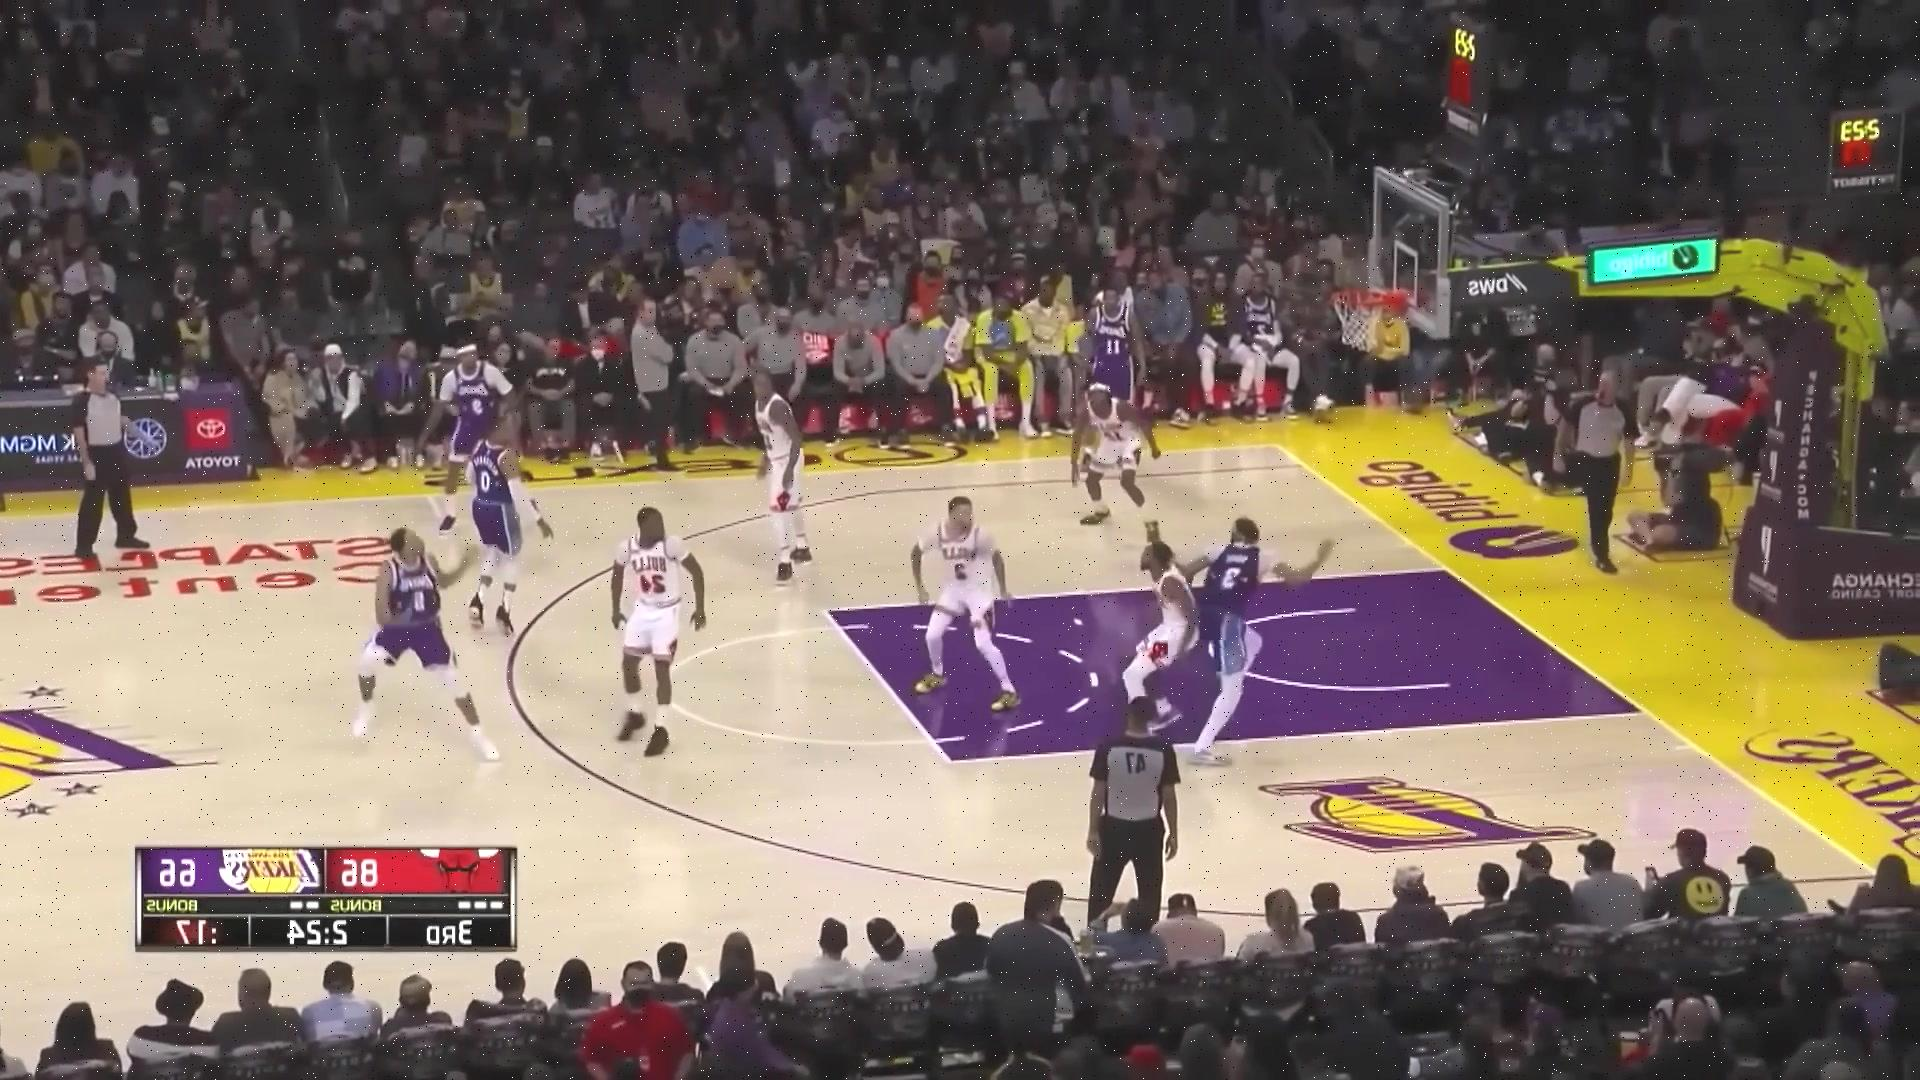no_foul: (1117, 505, 1332, 748)
